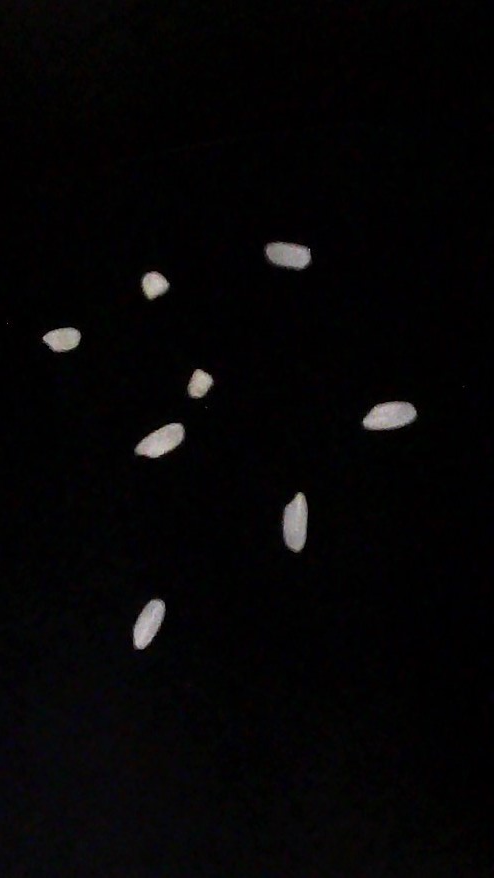broken_grain: (182, 725, 199, 809), (152, 567, 170, 633), (205, 496, 226, 551)
complete_grain: (335, 572, 368, 656), (275, 320, 313, 389), (223, 128, 245, 245), (237, 540, 260, 649), (134, 309, 153, 414)
